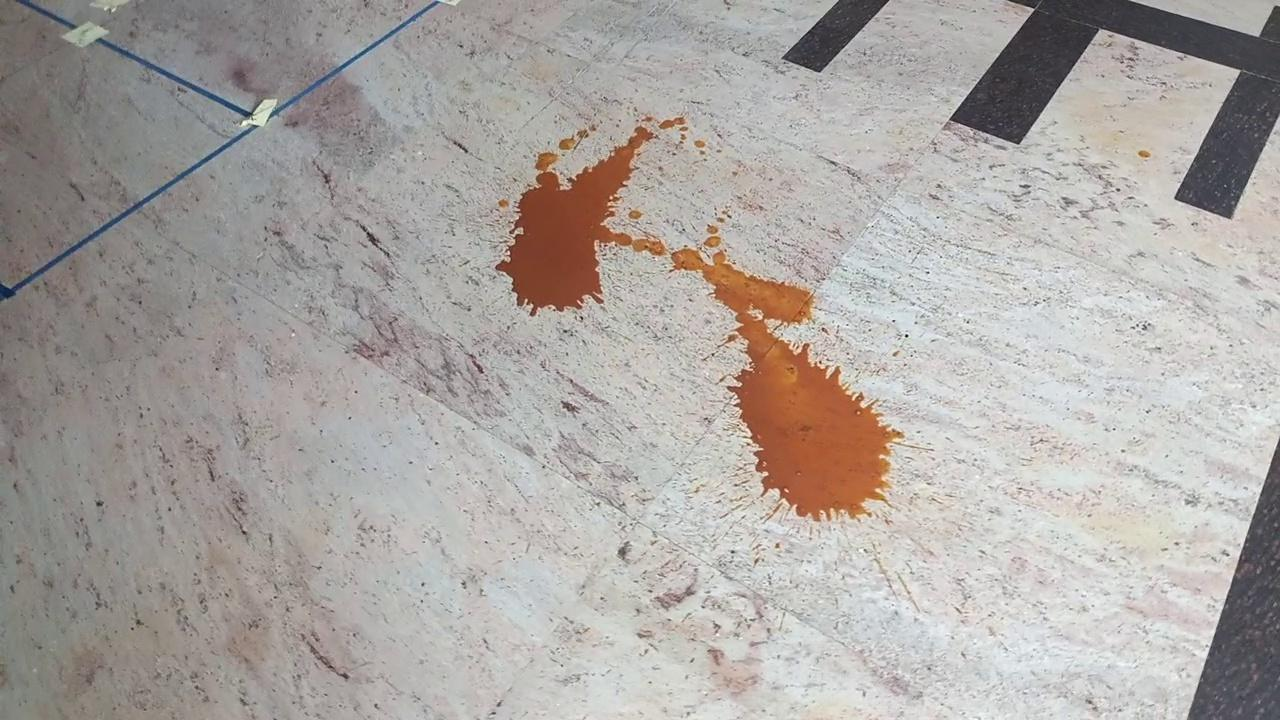dirty_floor: (503, 110, 899, 527)
